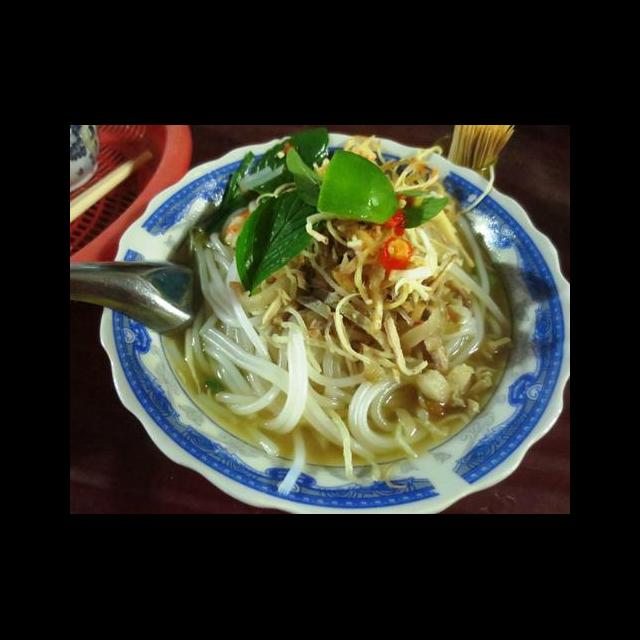bun: (178, 228, 432, 494), (439, 256, 517, 371)
tom: (221, 207, 303, 290)
